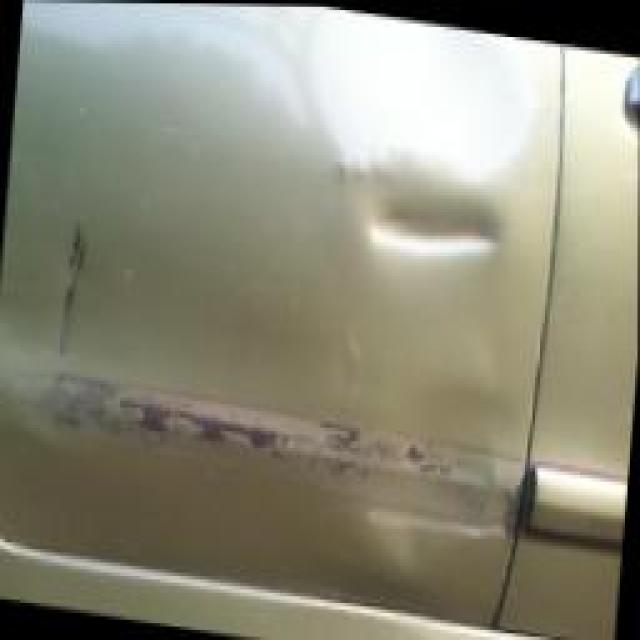Door: (1, 121, 544, 625)
